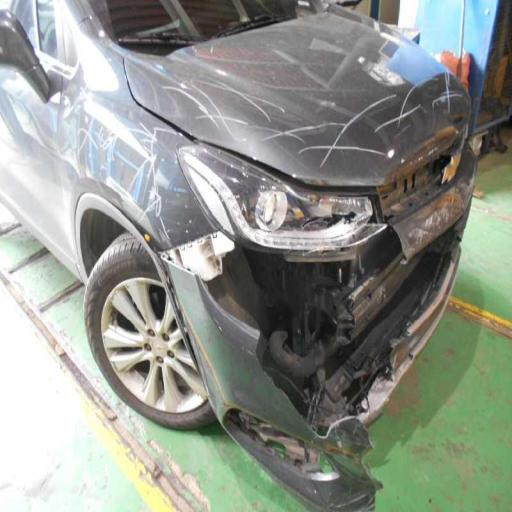broken: (202, 226, 378, 466)
